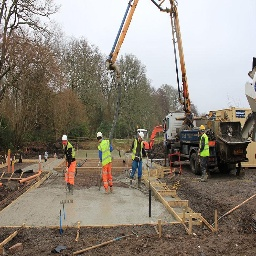helmet: (138, 130, 146, 140), (94, 132, 103, 140), (62, 133, 68, 144), (199, 124, 206, 133)
person: (94, 131, 117, 196), (60, 133, 80, 197), (128, 129, 146, 191), (198, 123, 211, 184)
vest: (98, 142, 112, 165), (131, 140, 144, 163), (200, 135, 211, 159), (62, 144, 76, 160)
